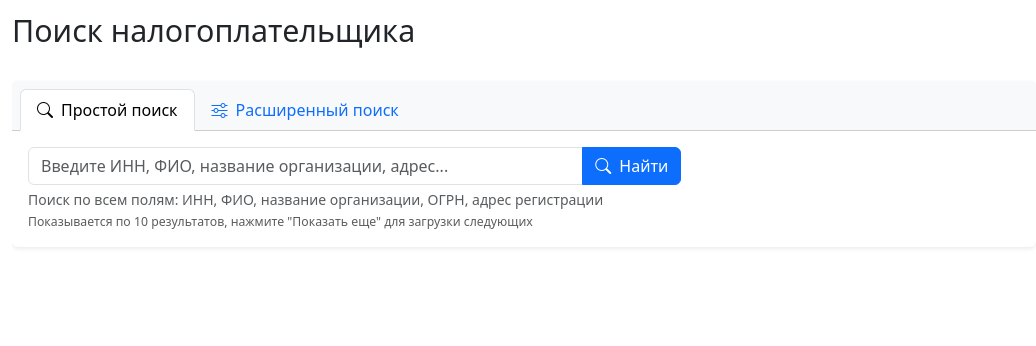
WorkerTaxpayerSearch › should show error when search fails
This screenshot has width=1036, height=346.
Заполняем и отправляем форму
In the field with placeholder "Введите ИНН, ФИО, название организации, адрес...": (306, 166) 28,146 -> 583,184, type "тестовый запрос"
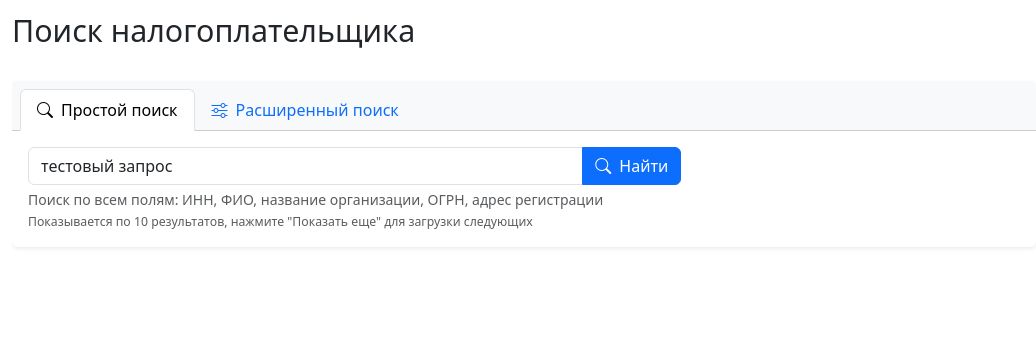
Click the button "Найти": click(632, 166) 582,146 -> 681,184
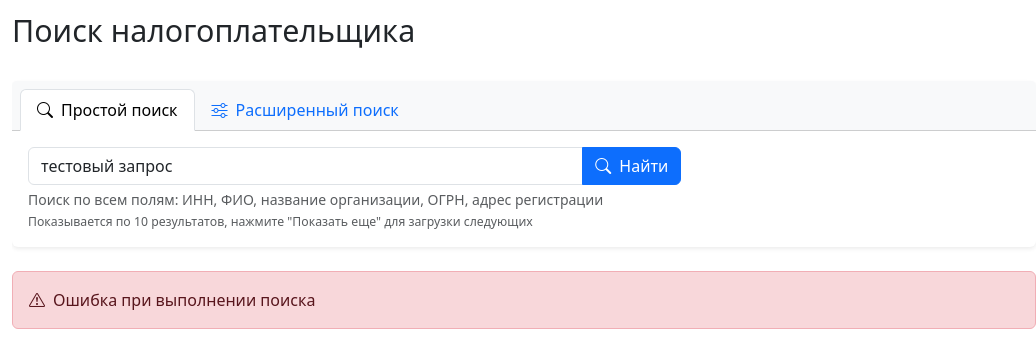
Now the text "Ошибка при выполнении поиска" is shown, box 12,271 -> 1035,329
